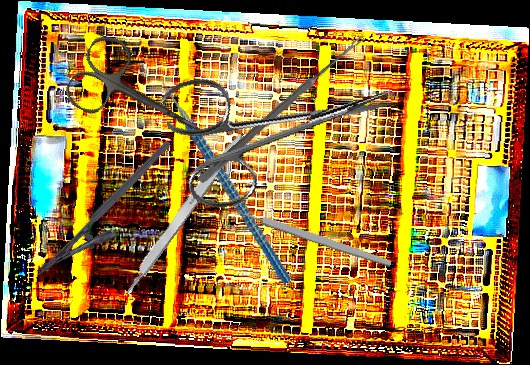Chopper: (141, 52, 291, 305)
Iris Scissors: (157, 31, 409, 216), (60, 29, 227, 171)
Needle Holder: (34, 139, 189, 295)
Scalpel Handle: (119, 128, 248, 296)
Surgical Spoon: (197, 32, 366, 186), (206, 195, 393, 270)
